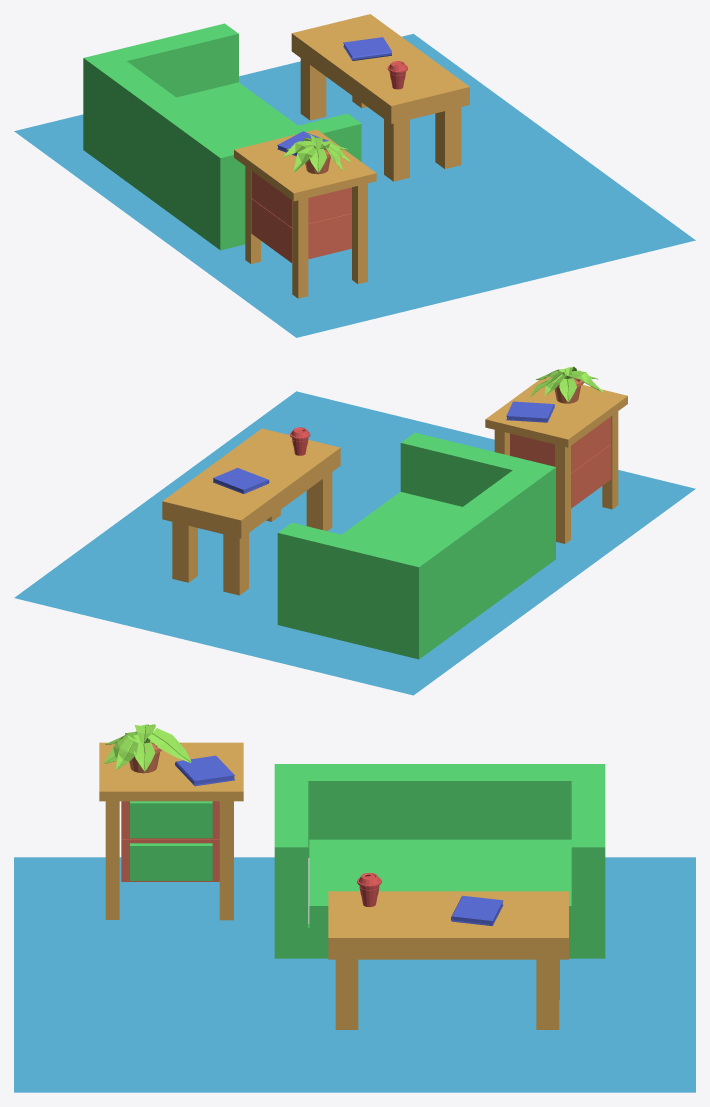
Rendered from room9.glb.
The picture shows the model from 3 angles, top to bottom: view 1: azimuth 30°, elevation 25°; view 2: azimuth 150°, elevation 25°; view 3: azimuth 270°, elevation 25°; orthographic projection. The views are drawn at different scales.
Parts seen in each view (by area): view 1: 平面.002, 平面.027, 平面.030, 平面, 平面.033, 平面.001, 平面.028, 平面.038, 平面.035, 平面.051; view 2: 平面.002, 平面.027, 平面.030, 平面.033, 平面, 平面.028, 平面.001, 平面.035, 平面.038, 平面.051, 平面.050; view 3: 平面.002, 平面.027, 平面.030, 平面.028, 平面.033, 平面.001, 平面, 平面.036, 平面.039, 平面.050, 平面.038, 平面.051 (+3 smaller).
Part boxes in pixels (box(x1,y1,x2,y2)): 平面.002: box(14, 34, 695, 337); 平面.027: box(83, 23, 361, 250); 平面.030: box(291, 14, 469, 123); 平面: box(300, 58, 461, 181); 平面.033: box(234, 129, 376, 201); 平面.001: box(245, 166, 367, 298); 平面.028: box(176, 82, 297, 140); 平面.038: box(251, 198, 351, 262); 平面.035: box(251, 170, 351, 227); 平面.051: box(343, 37, 391, 60); 平面.002: box(14, 391, 695, 695); 平面.027: box(277, 432, 555, 659); 平面.030: box(162, 428, 340, 538); 平面.033: box(485, 377, 627, 447); 平面: box(172, 472, 332, 595); 平面.028: box(342, 492, 462, 549); 平面.001: box(494, 411, 618, 543); 平面.035: box(510, 416, 611, 472); 平面.038: box(571, 444, 611, 508); 平面.051: box(213, 468, 269, 493); 平面.050: box(506, 401, 554, 422); 平面.002: box(14, 857, 695, 1092); 平面.027: box(274, 764, 605, 958); 平面.030: box(328, 891, 568, 959); 平面.028: box(309, 839, 571, 927); 平面.033: box(99, 742, 243, 801); 平面.001: box(105, 801, 233, 920); 平面: box(335, 959, 559, 1029); 平面.036: box(130, 801, 212, 838); 平面.039: box(130, 843, 212, 880); 平面.050: box(175, 755, 234, 786); 平面.038: box(121, 839, 219, 881); 平面.051: box(451, 895, 503, 925).
Bounding box in the file's own units: 2 × 0.6819 × 2.45.
